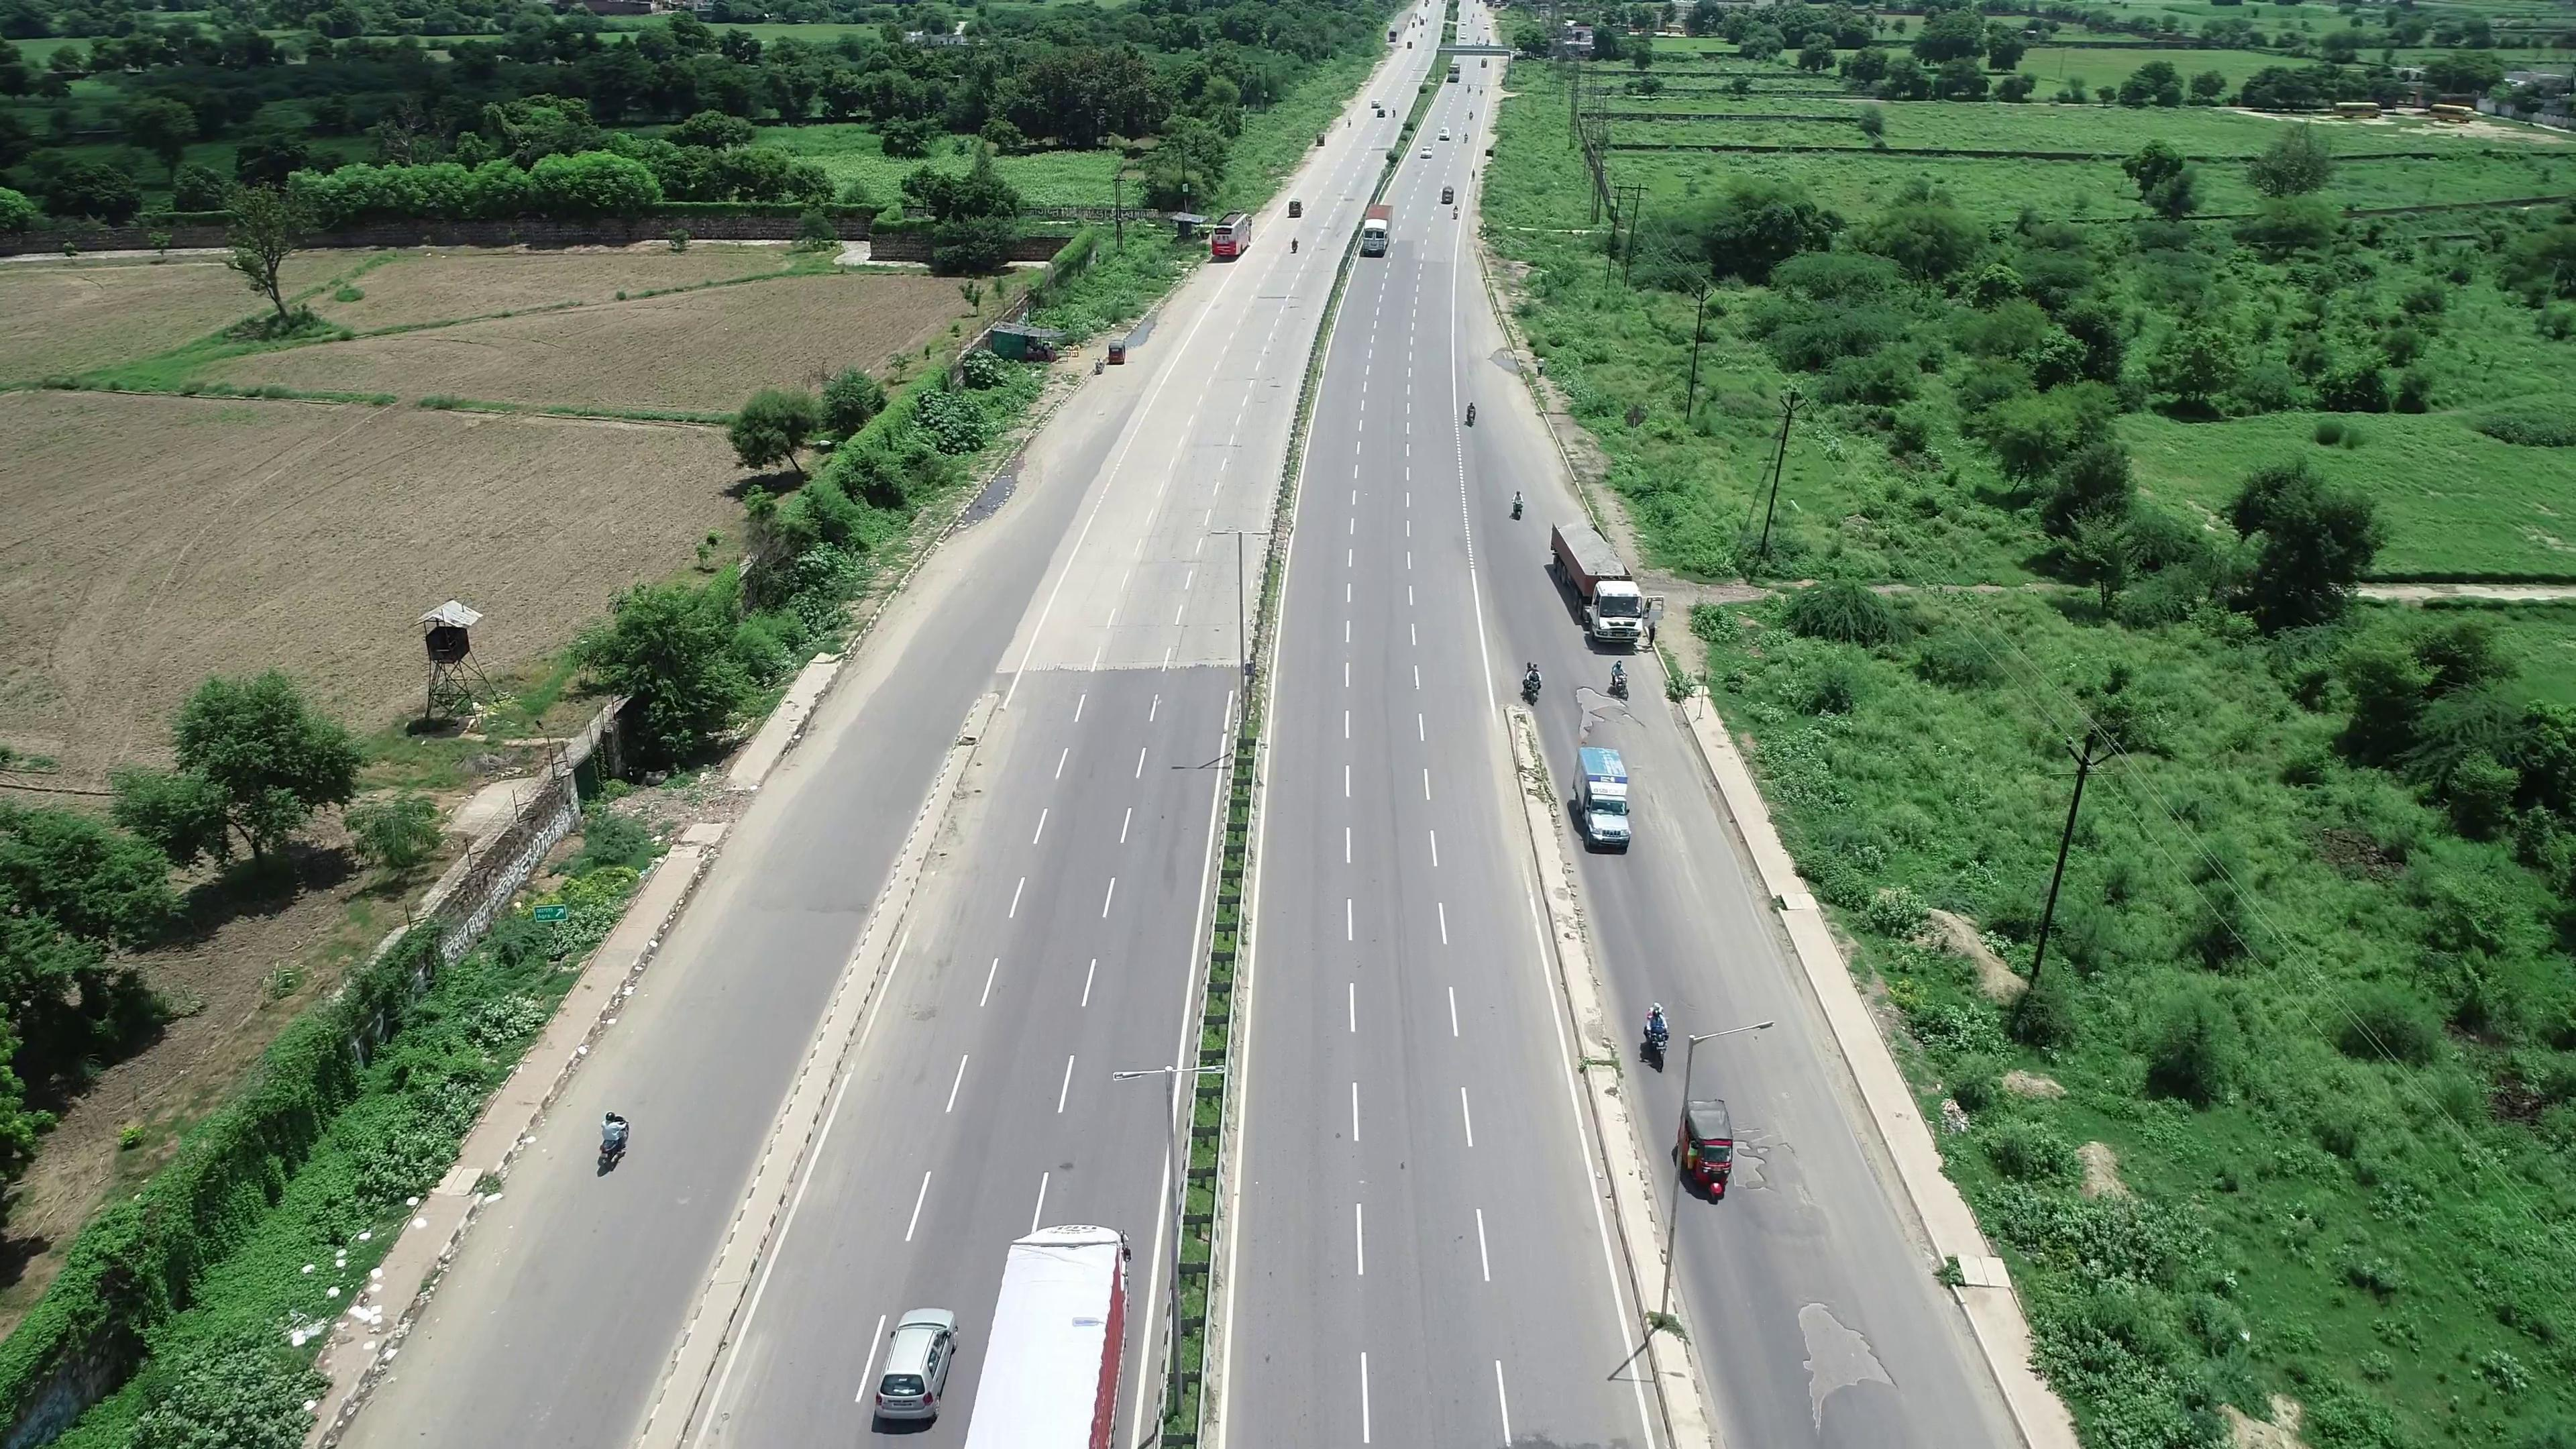Potholes: (1730, 1258, 1918, 1449), (1729, 1111, 1815, 1226), (1559, 678, 1638, 740)
